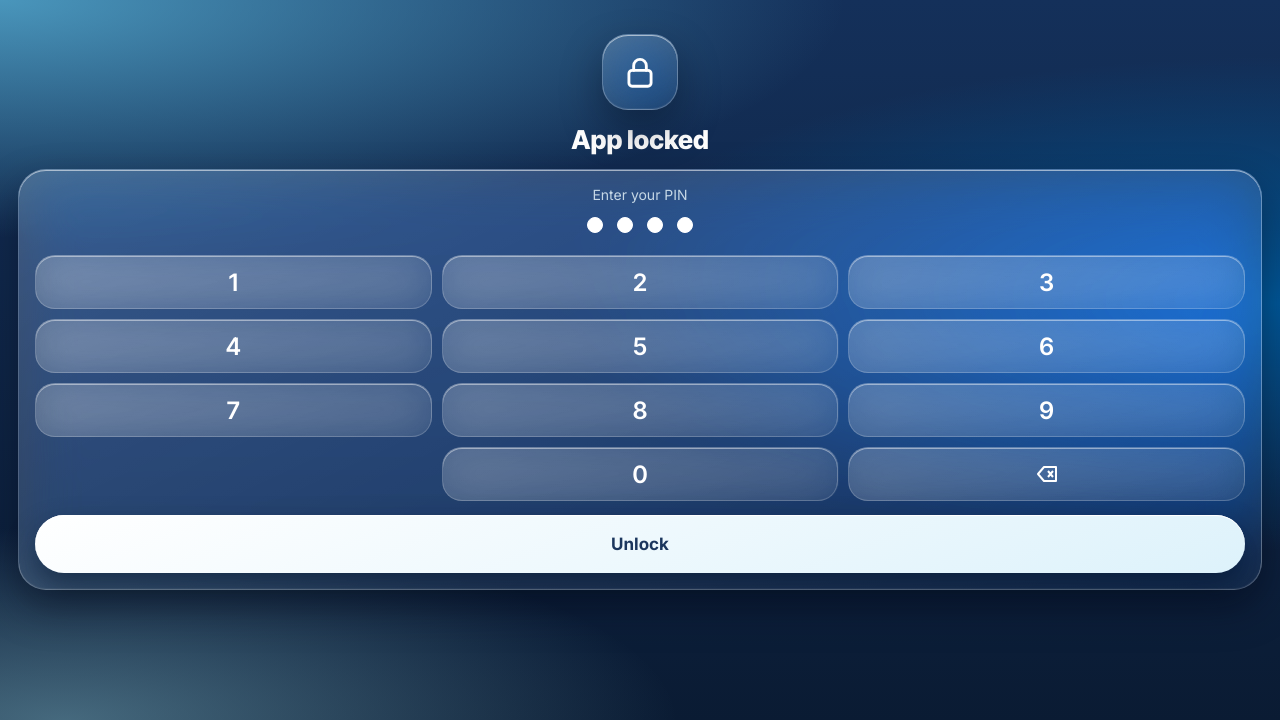
Test: 5 wrong PINs show a lockout countdown
The width and height of the screenshot is (1280, 720).
Earlier steps of the test are not shown.
Later steps or results of the test are not shown.
Click the button "Unlock" at x=640, y=544, box [35, 515, 1245, 573]
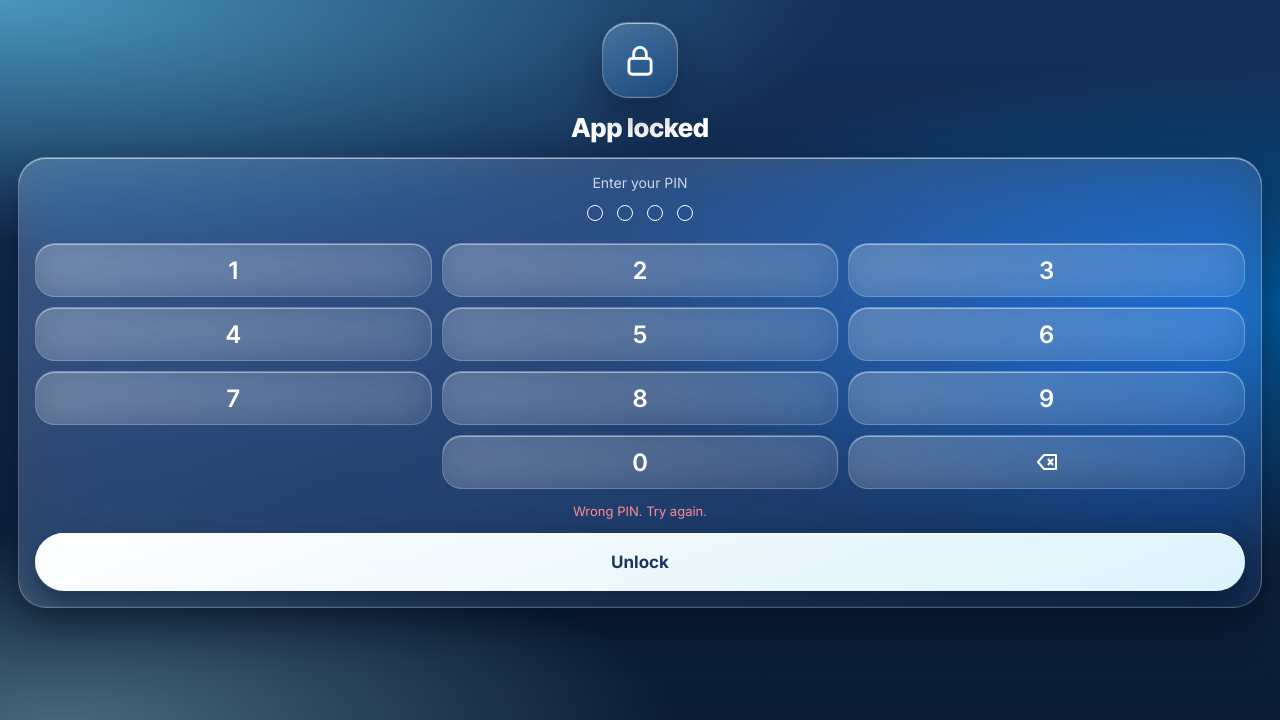
Check: the button "1" is enabled, box [35, 243, 432, 297]
Check: the 2nd element with test id "pin-dot" has attribute data-filled="false", box [587, 205, 603, 221]
Click the button "0" at x=640, y=462, box [442, 435, 838, 489]
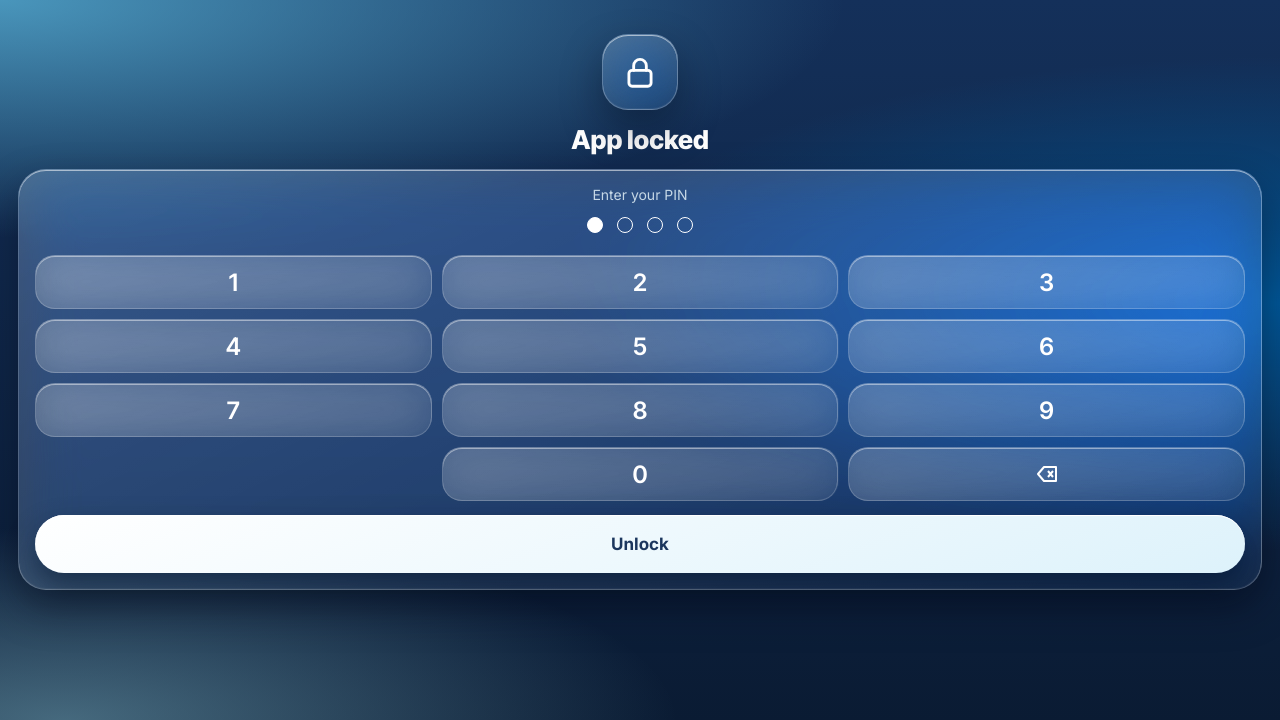
Click the button "0" at x=640, y=474, box [442, 447, 838, 501]
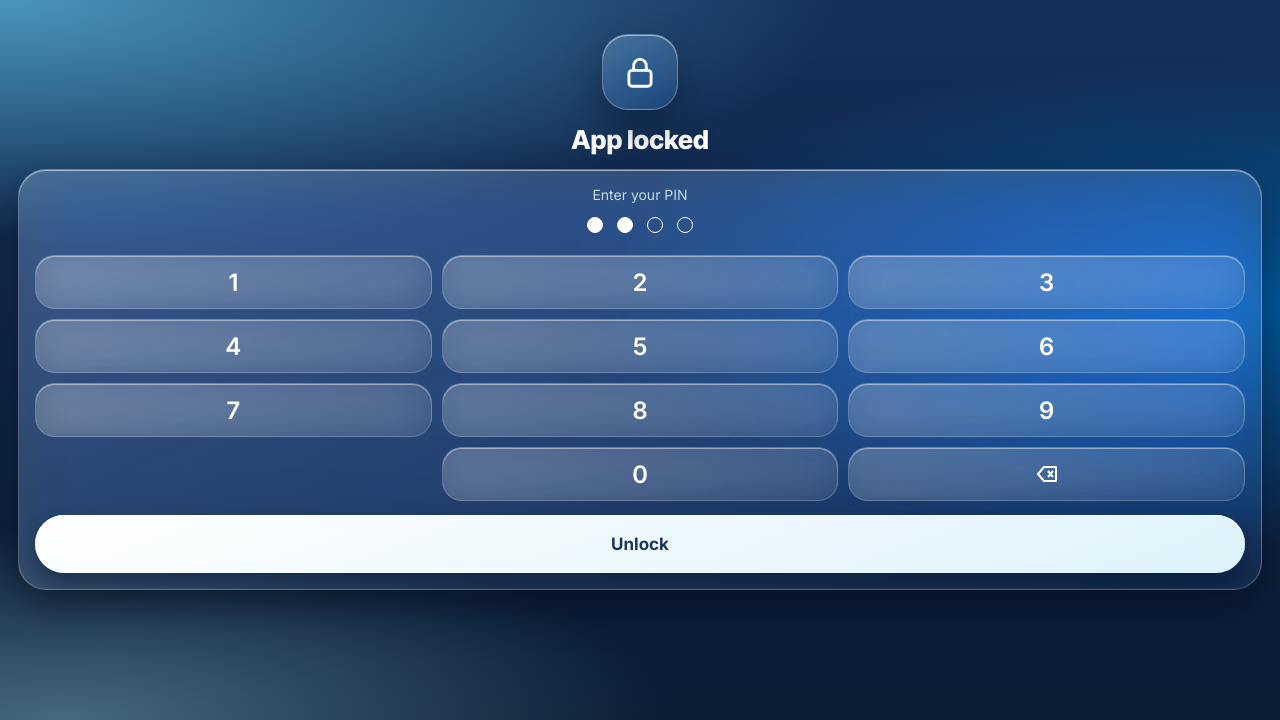
Click the button "0" at x=640, y=474, box [442, 447, 838, 501]
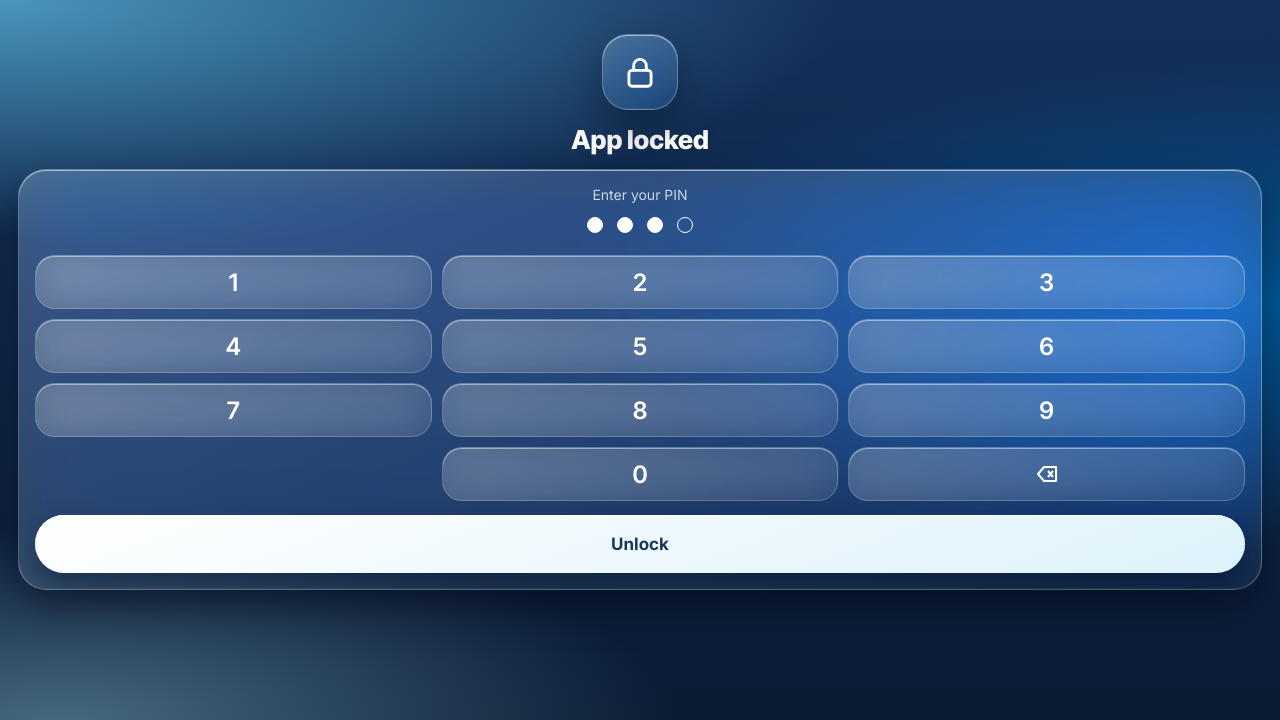
Click the button "0" at x=640, y=474, box [442, 447, 838, 501]
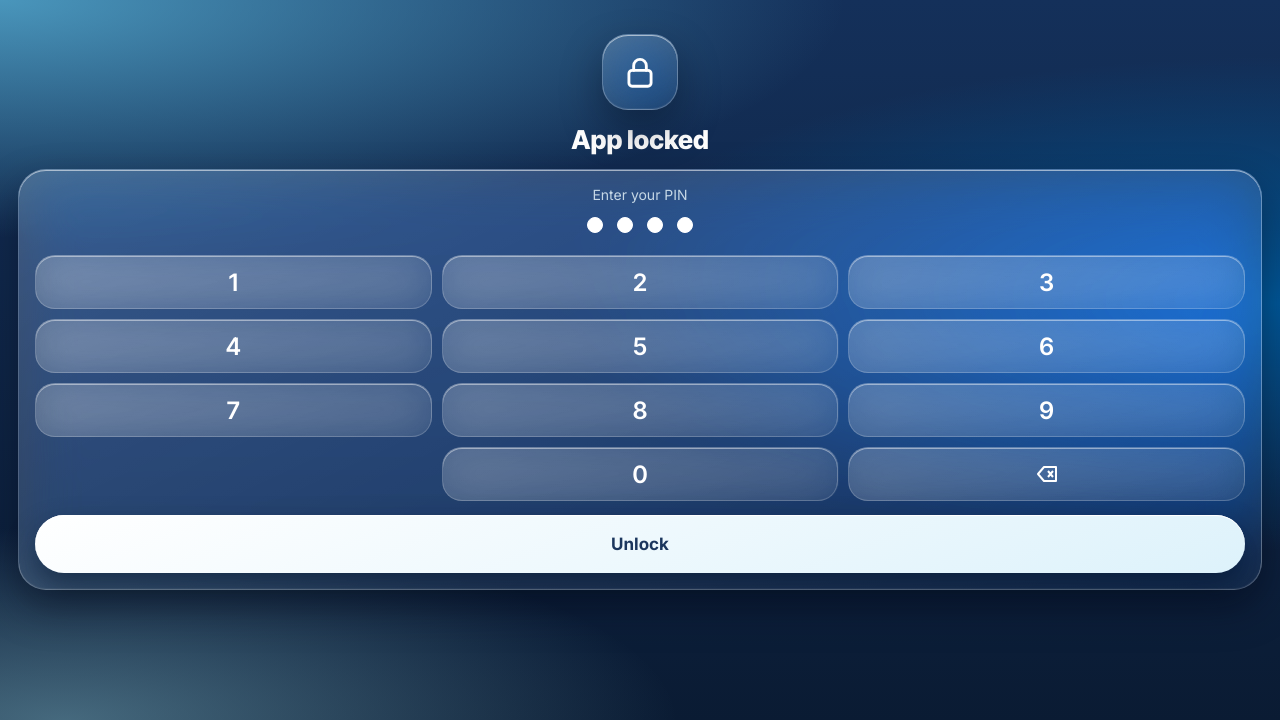
Click the button "Unlock" at x=640, y=544, box [35, 515, 1245, 573]
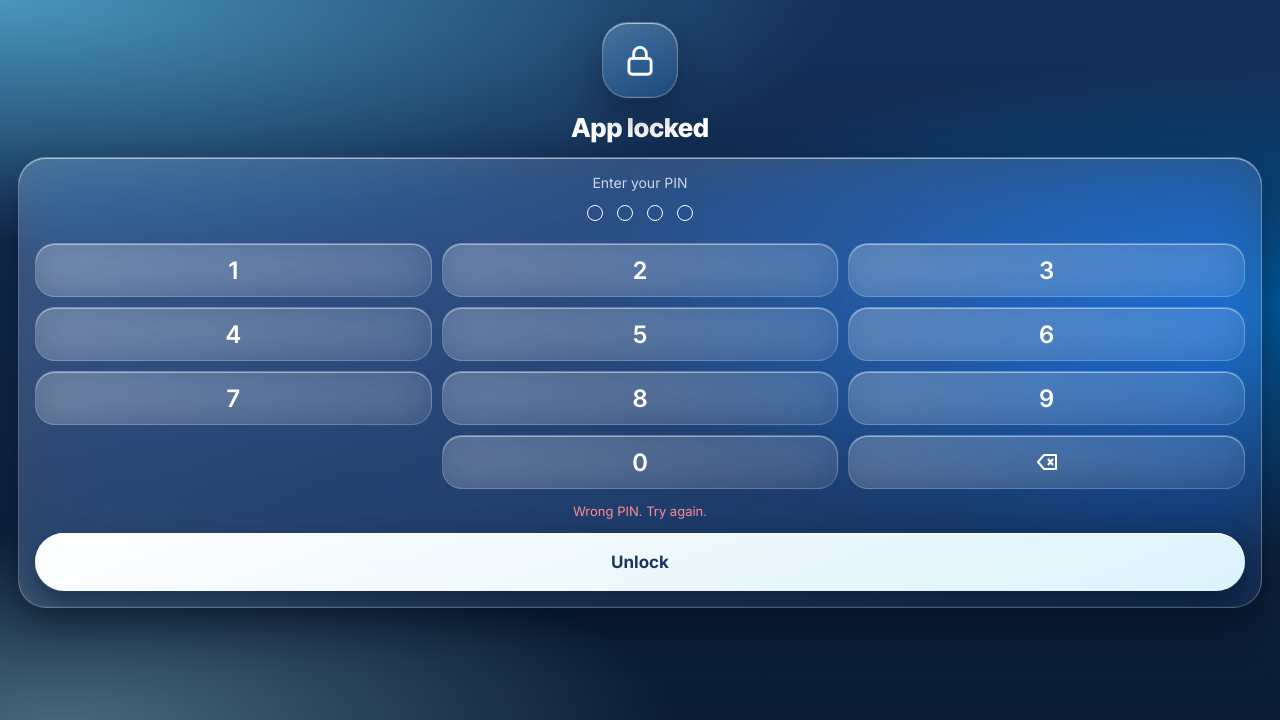
Check: the button "1" is enabled, box [35, 243, 432, 297]
Check: the 2nd element with test id "pin-dot" has attribute data-filled="false", box [587, 205, 603, 221]
